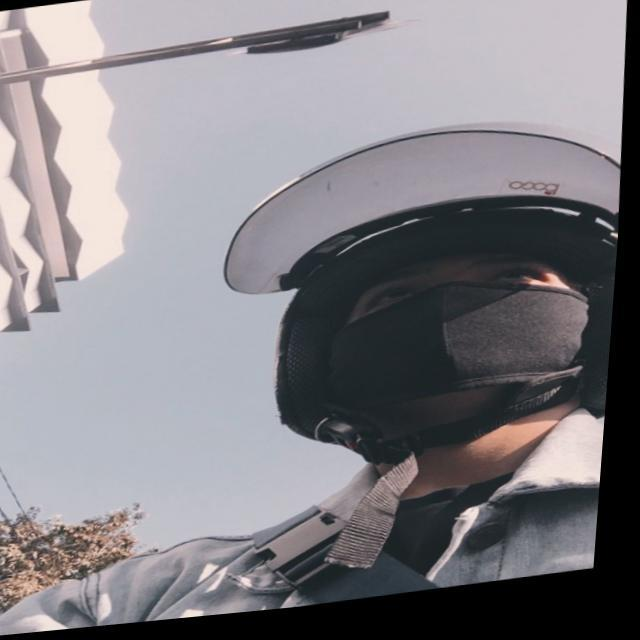Helmet: (219, 121, 619, 480)
